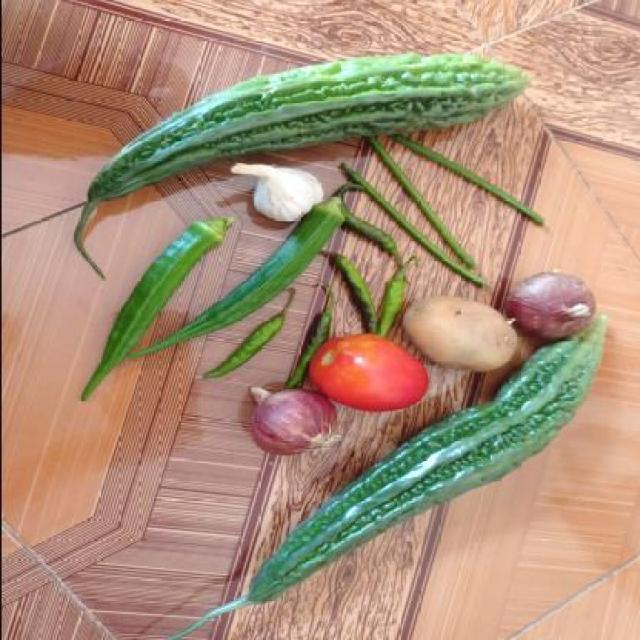Bitter melon: (64, 56, 526, 202), (240, 422, 545, 616)
Garlic: (222, 156, 326, 218)
Green Chili: (200, 308, 296, 388), (322, 244, 376, 334)
Lady finger: (74, 223, 231, 409)
Onion: (240, 382, 336, 456), (508, 275, 597, 337)
Potato: (400, 297, 516, 371)
Tomato: (312, 337, 430, 412)
